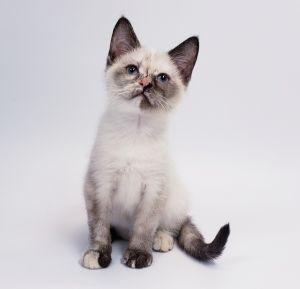siamese: (100, 14, 205, 128)
